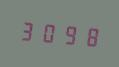eight: (78, 21, 97, 50)
nine: (58, 19, 77, 48)
three: (18, 16, 37, 45)
zero: (38, 18, 57, 46)
